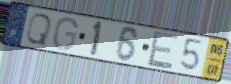1: (88, 20, 104, 58)
5: (179, 37, 204, 74)
6: (114, 26, 142, 64)
E: (146, 29, 180, 71)
G: (51, 16, 79, 52)
Q: (23, 13, 54, 48)
